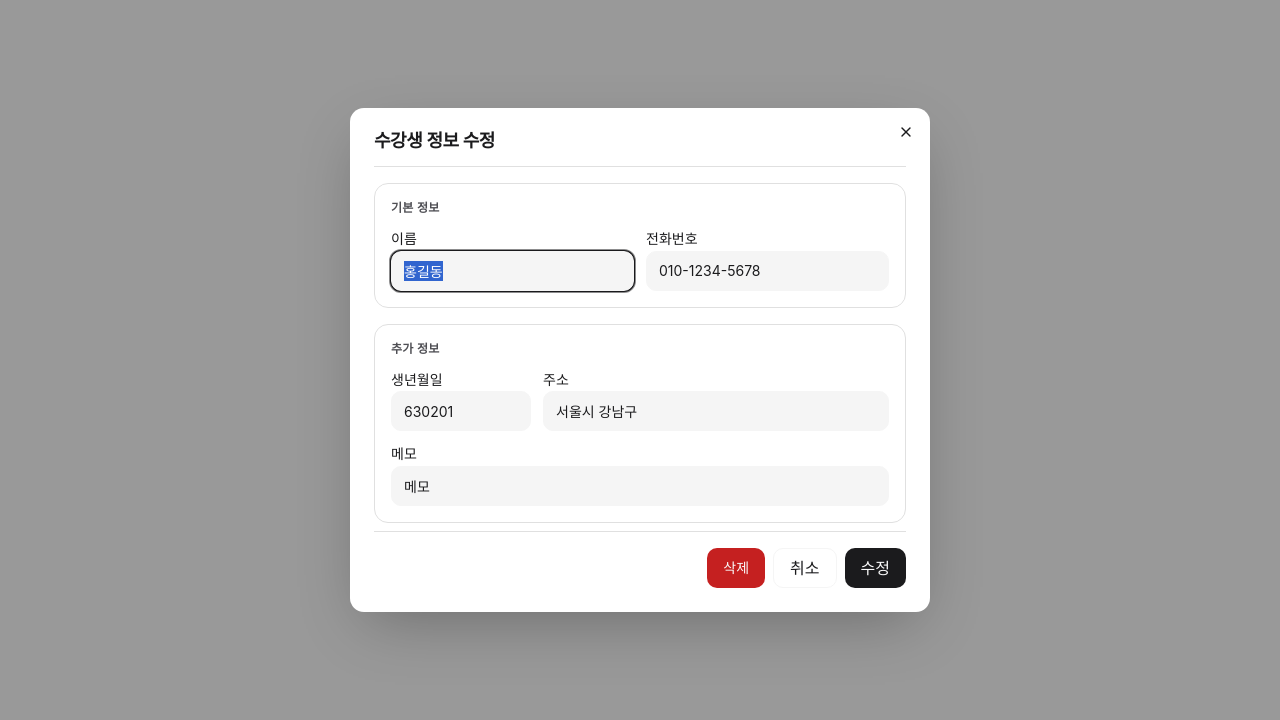
Scenario: StudentForm › delete button shows confirmation dialog
Click the button "삭제": [736, 568] box [707,548,765,588]
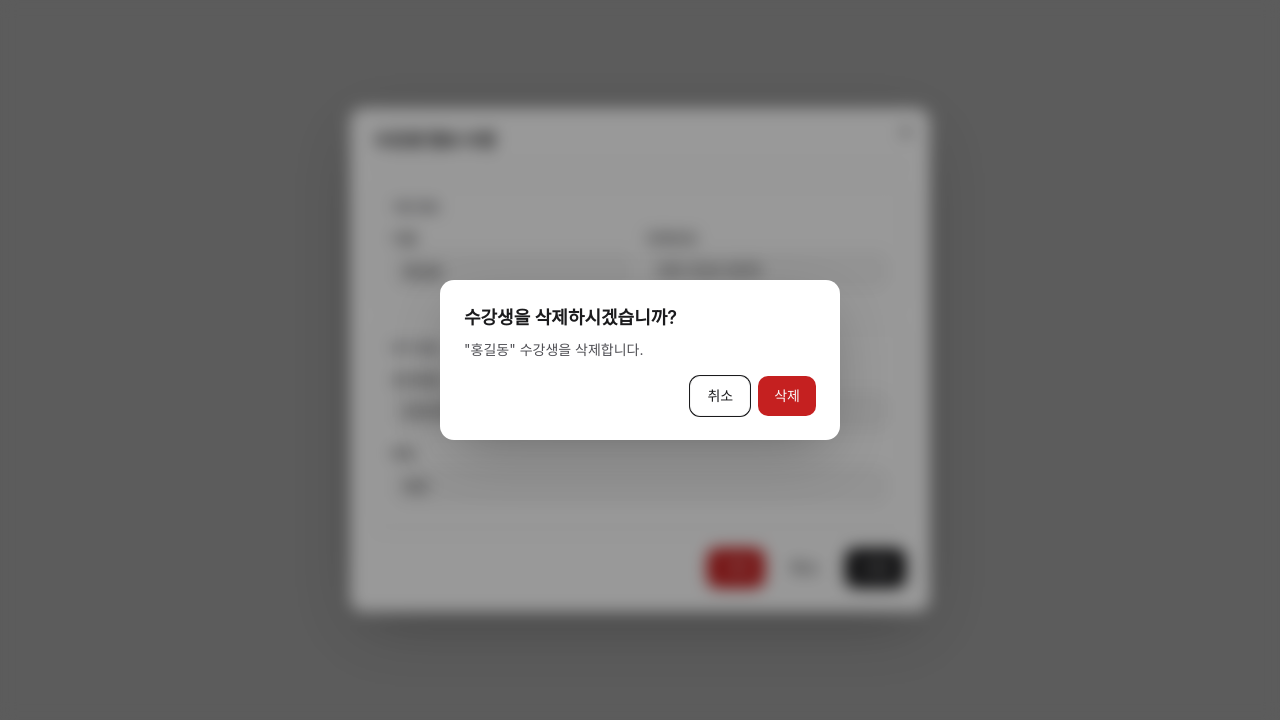
Check: the heading "수강생을 삭제하시겠습니까?" is shown, box [464,307,677,328]
